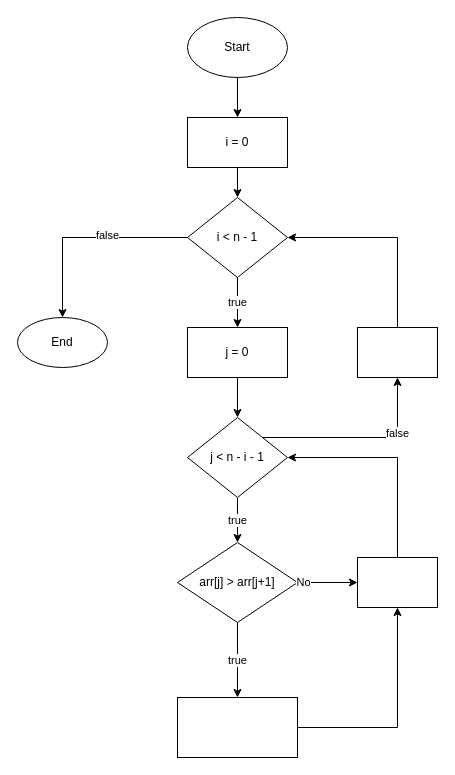
The diagram is 455 pixels wide and 775 high, and some of its shapes have lost their labels. Each missing label, with the centre of its shape:
"i++" goes at (397,352).
"j++" goes at (397,582).
"Swap arr[j] and arr[j+1]" goes at (237,727).
